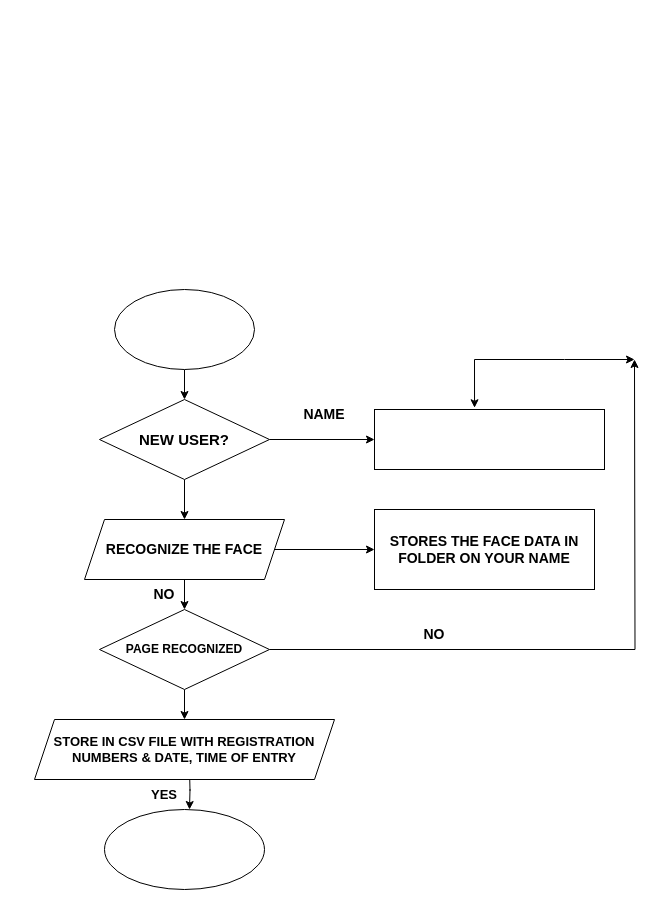
This 661x907 diagram has some shape labels left out. The centre of each missing label's shape, as x and y in pixels:
"GIVE YOUR PHOTOGRAPH" belongs at (489,439).
"START" belongs at (184,329).
"STOP" belongs at (184,849).
